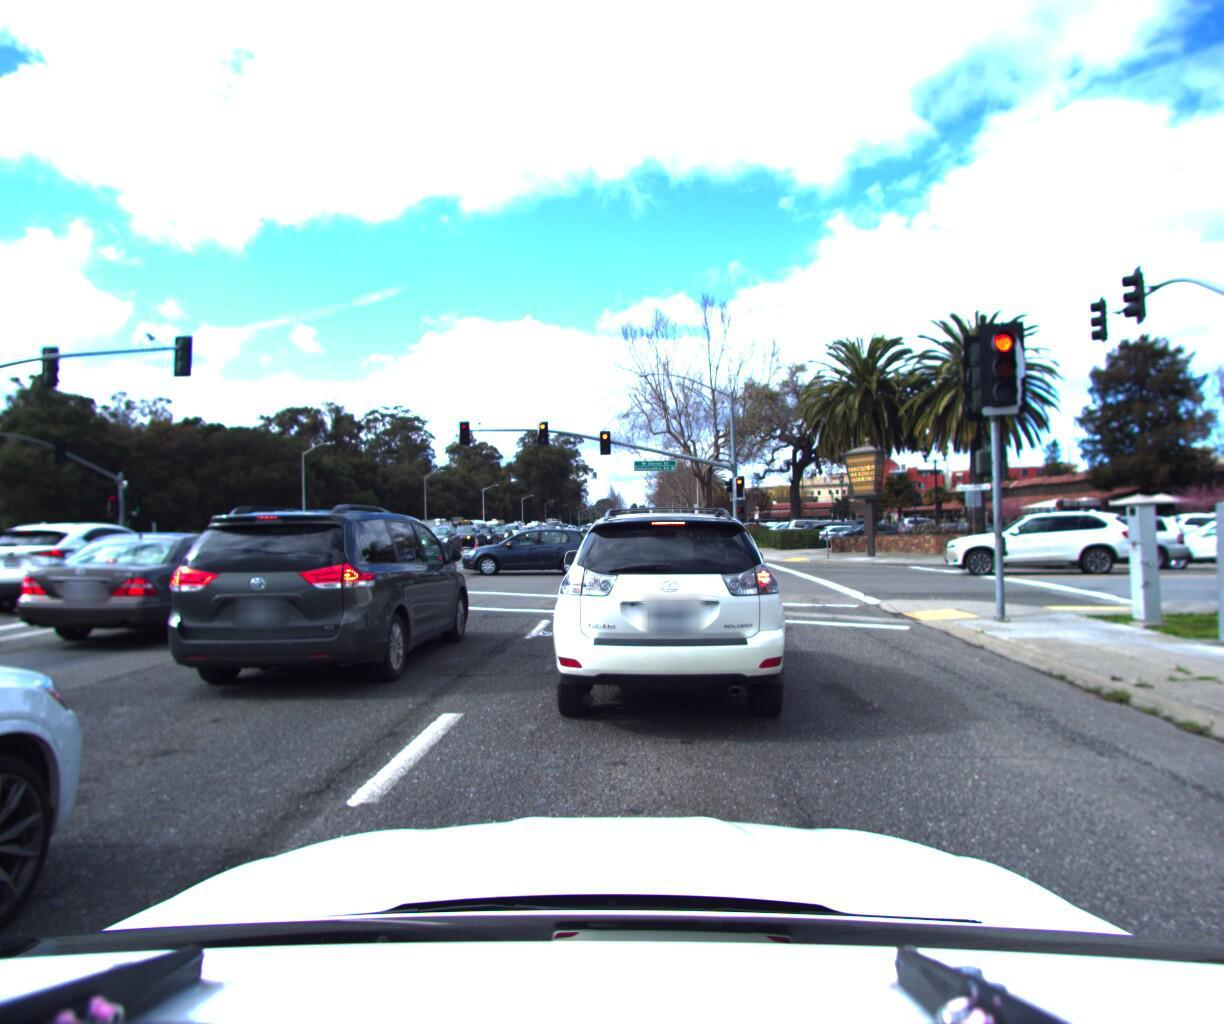car: (536, 492, 803, 747), (156, 500, 485, 703), (8, 530, 307, 660), (0, 523, 205, 627), (941, 508, 1143, 581), (1013, 504, 1188, 574), (0, 537, 115, 617), (463, 526, 601, 579), (1131, 507, 1224, 568), (833, 520, 921, 552), (1160, 505, 1224, 549), (816, 523, 899, 550), (801, 519, 880, 547), (422, 527, 468, 554), (449, 527, 490, 551), (503, 522, 532, 542), (602, 523, 622, 542)
other_vehicle: (331, 513, 399, 552)
